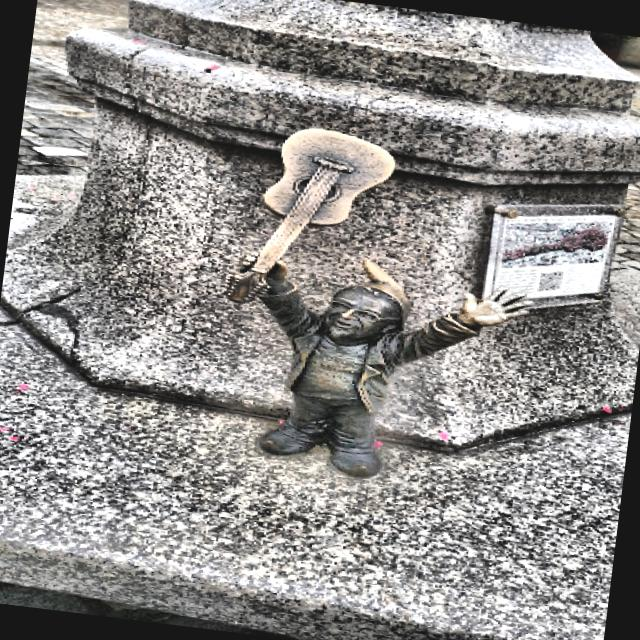Leszko_z_Wroclawia: (225, 128, 536, 480)
